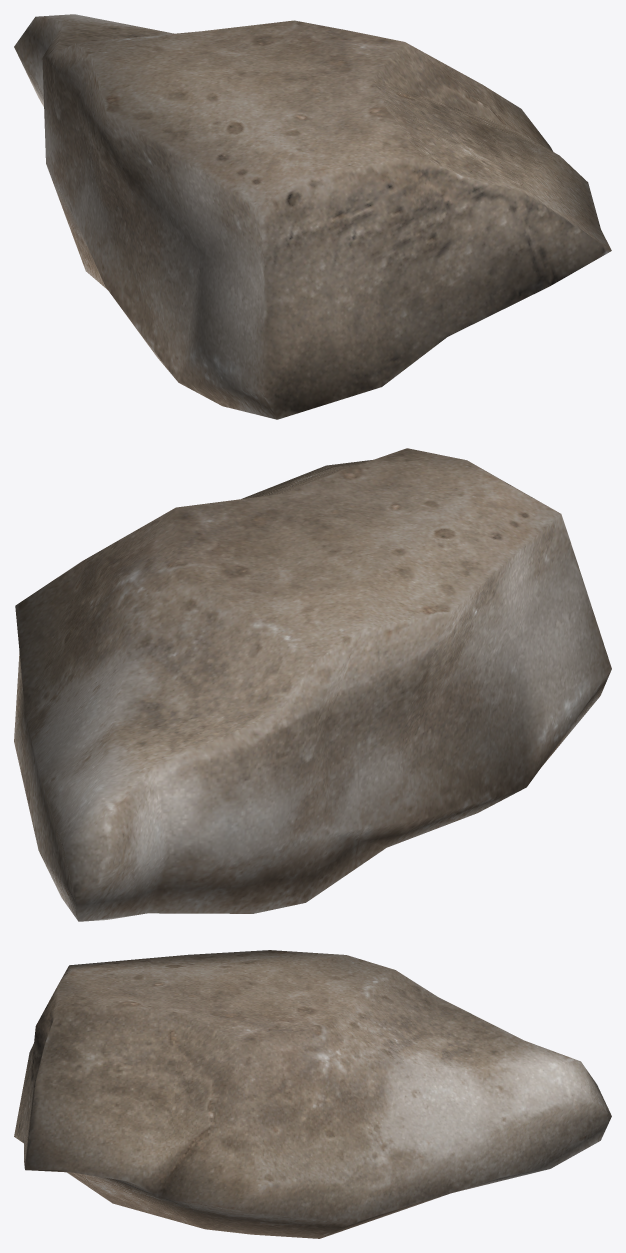
The model's file is Aset_nature_rock_S_veosbjk.fbx.
3 renders of one model, top to bottom at view 1: azimuth 30°, elevation 25°; view 2: azimuth 150°, elevation 25°; view 3: azimuth 270°, elevation 25°, orthographic. The views are drawn at different scales.
Visible parts, largest first — view 1: Aset_nature_rock_S_veosbjk_LOD0; view 2: Aset_nature_rock_S_veosbjk_LOD0; view 3: Aset_nature_rock_S_veosbjk_LOD0.
Boxes of the visible parts, x1,y1,x2,y2 form: Aset_nature_rock_S_veosbjk_LOD0: [14, 14, 611, 419]; Aset_nature_rock_S_veosbjk_LOD0: [14, 448, 611, 921]; Aset_nature_rock_S_veosbjk_LOD0: [14, 950, 611, 1238].
Size of what is drawn, in the model's own units: 57.75 by 33.85 by 89.37.
